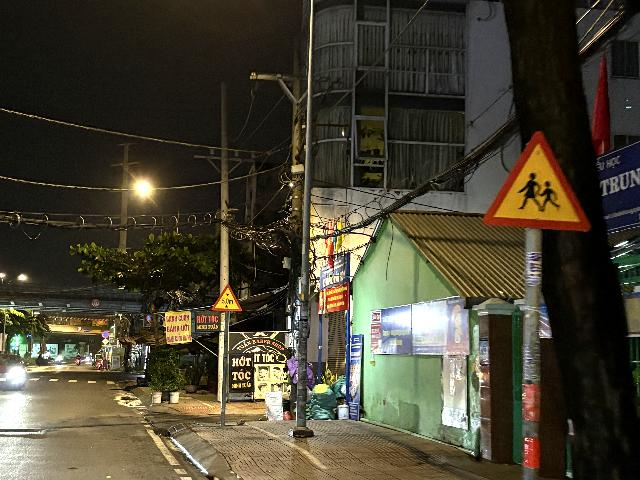tre-em-qua-duong: (481, 129, 591, 231)
